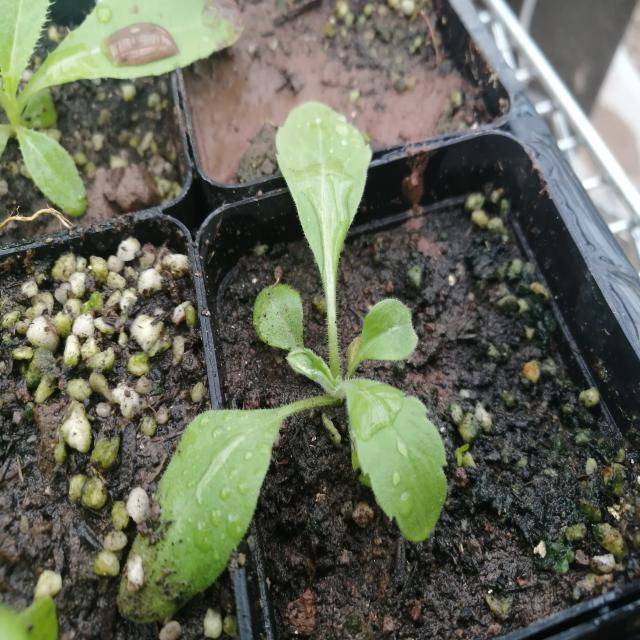horseweed: (93, 79, 453, 575)
